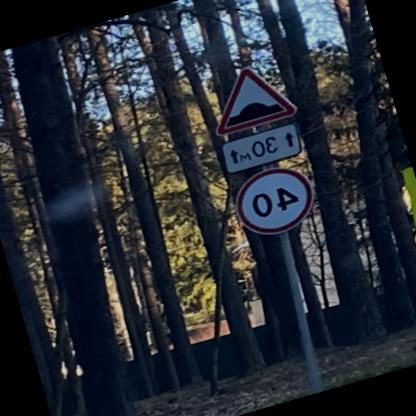speedlimit: (229, 158, 323, 242)
